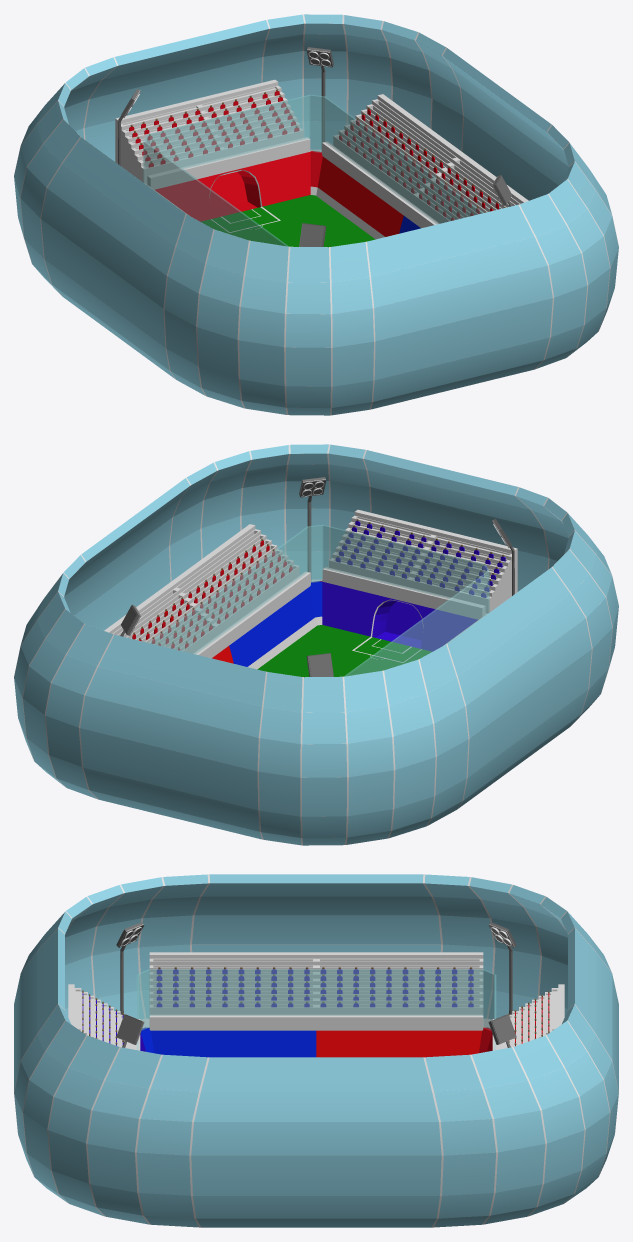
File: New Stadium.fbx
3 renders of one model, top to bottom at view 1: azimuth 30°, elevation 25°; view 2: azimuth 150°, elevation 25°; view 3: azimuth 270°, elevation 25°, orthographic. The views are drawn at different scales.
Parts seen in each view (by area): view 1: Cube.045, Cube.009, Cube.043, Cube.041, Cube.105, Cube.047, Cube.126, Cube.003, Cube, Cube.039, Cube.128, Cube.002 (+3 smaller); view 2: Cube.045, Cube.044, Cube.043, Cube.048, Cube.127, Cube.047, Cube.126, Cube.001, Cube, Cube.039, Cube.128, Cube.002 (+3 smaller); view 3: Cube.045, Cube.010, Cube.039, Cube.128, Cube.046, Cube.013, Cube.009, Cube.044, Cube.042, Cube.115.
Part boxes in pixels (<box>): Cube.045: <box>14,14,618,415</box>; Cube.009: <box>115,79,310,189</box>; Cube.043: <box>322,94,528,228</box>; Cube.041: <box>149,95,309,168</box>; Cube.105: <box>149,95,309,168</box>; Cube.047: <box>325,97,483,223</box>; Cube.126: <box>325,97,483,223</box>; Cube.003: <box>155,151,313,221</box>; Cube: <box>201,195,375,247</box>; Cube.039: <box>143,141,288,246</box>; Cube.128: <box>143,142,287,245</box>; Cube.002: <box>316,156,420,239</box>; Cube.045: <box>14,444,618,845</box>; Cube.044: <box>322,509,517,619</box>; Cube.043: <box>104,524,310,658</box>; Cube.048: <box>323,525,483,598</box>; Cube.127: <box>323,525,483,598</box>; Cube.047: <box>149,527,307,653</box>; Cube.126: <box>149,527,307,653</box>; Cube.001: <box>319,581,477,651</box>; Cube: <box>257,625,431,677</box>; Cube.039: <box>344,571,489,676</box>; Cube.128: <box>345,572,489,675</box>; Cube.002: <box>212,586,316,669</box>; Cube.045: <box>14,874,618,1227</box>; Cube.010: <box>149,952,483,1030</box>; Cube.039: <box>150,969,482,1015</box>; Cube.128: <box>150,969,482,1015</box>; Cube.046: <box>151,1030,481,1057</box>; Cube.013: <box>116,922,516,1047</box>; Cube.009: <box>492,984,564,1050</box>; Cube.044: <box>68,984,140,1050</box>; Cube.042: <box>137,969,495,1029</box>; Cube.115: <box>137,970,495,1029</box>.
Size of the model in its own units: 6043 by 2147 by 7216.
